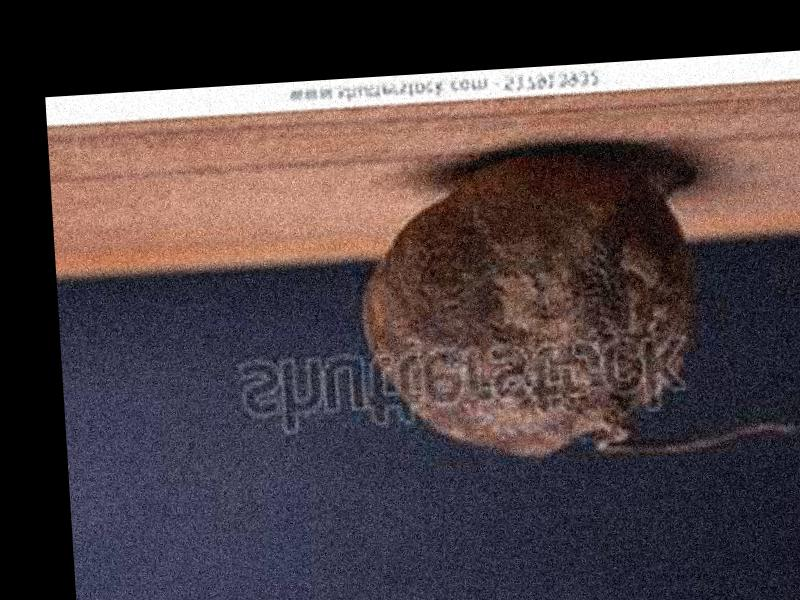Beet: (355, 140, 800, 472)
